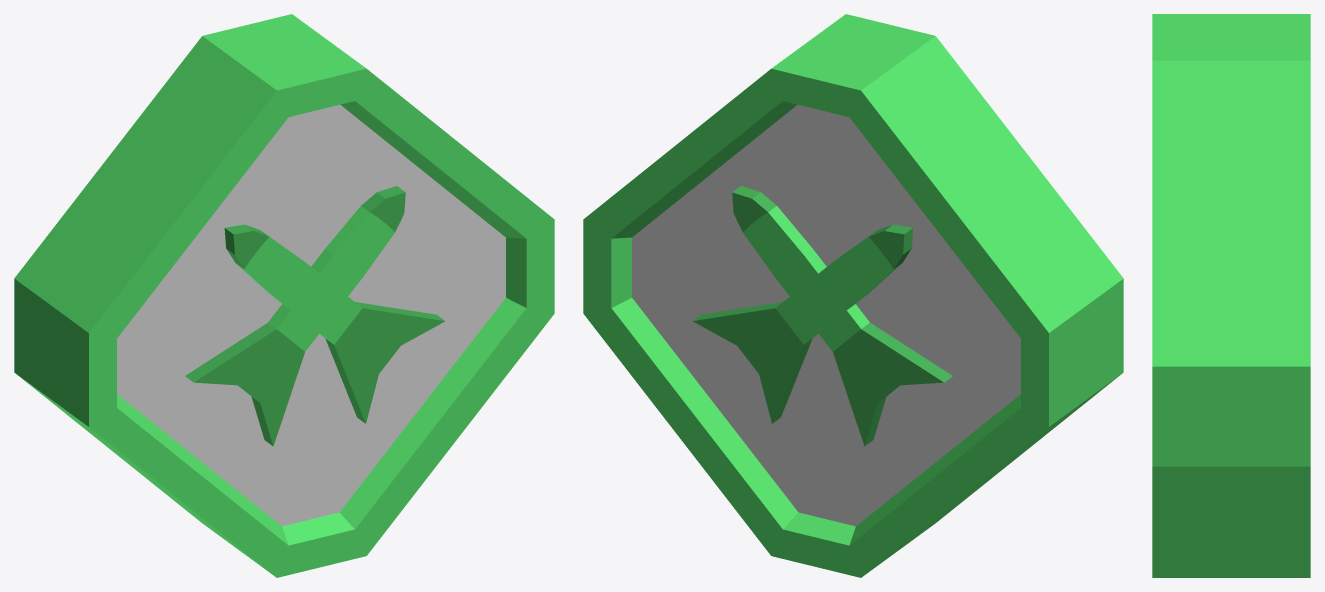
Rendered from bonus_boost_weapon_v2.glb.
The picture shows the model from 3 angles, left to right: view 1: azimuth 30°, elevation 25°; view 2: azimuth 150°, elevation 25°; view 3: azimuth 270°, elevation 25°; orthographic projection. The views are drawn at different scales.
Visible parts, largest first — view 1: Cube.005; view 2: Cube.005; view 3: Cube.005.
Part boxes in pixels (x1,y1,x2,y2): Cube.005: (14, 14, 554, 577); Cube.005: (583, 14, 1123, 577); Cube.005: (1152, 14, 1310, 577).
Bounding box in the file's own units: 2.37 × 2.37 × 0.6587.
